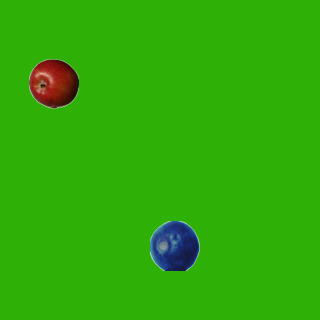Apple Braeburn: (28, 58, 78, 108)
Huckleberry: (149, 220, 199, 270)
